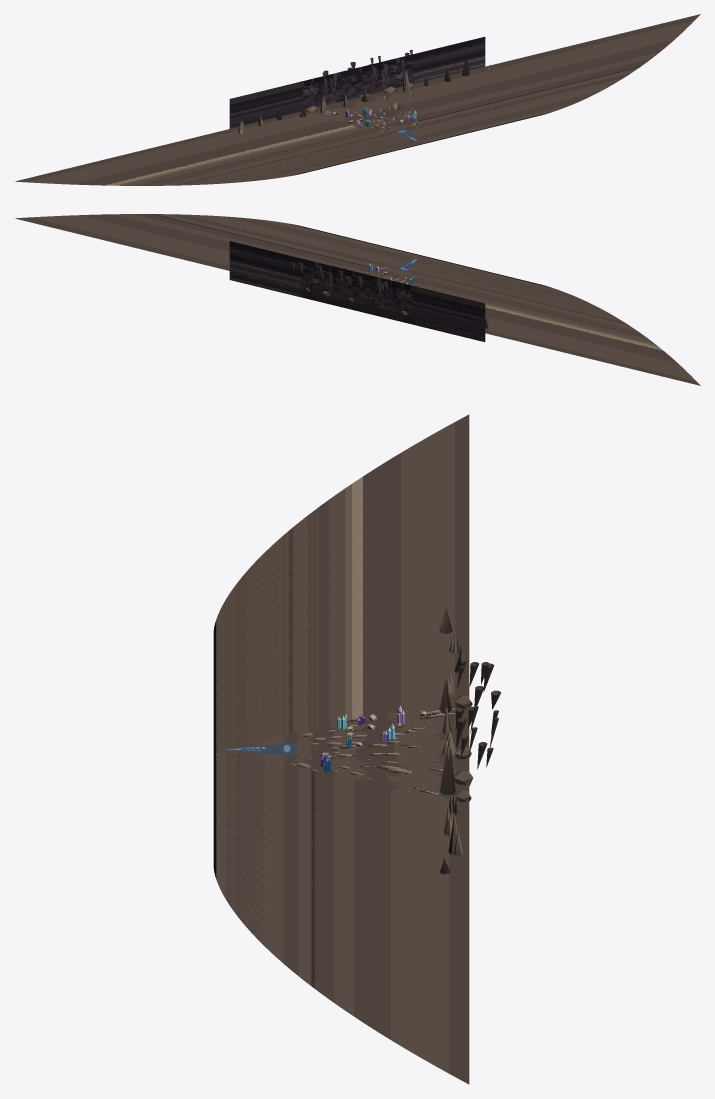
File: bg_cave.glb
3 views of the same model, one above another, from view 1: azimuth 30°, elevation 25°; view 2: azimuth 150°, elevation 25°; view 3: azimuth 270°, elevation 25° (orthographic). The views are drawn at different scales.
Visible parts, largest first — view 1: ground, cave_wall, cave_decor, stalactites; view 2: ground, cave_wall, stalactites; view 3: ground, cave_decor, stalactites.
Boxes of the visible parts, left/top/right/bottom form: ground: left=15, top=14, right=700, bottom=185; cave_wall: left=229, top=37, right=485, bottom=128; cave_decor: left=238, top=54, right=491, bottom=133; stalactites: left=322, top=50, right=412, bottom=92; ground: left=15, top=214, right=700, bottom=385; cave_wall: left=229, top=241, right=485, bottom=341; stalactites: left=291, top=262, right=388, bottom=294; ground: left=213, top=414, right=469, bottom=1084; cave_decor: left=320, top=607, right=466, bottom=874; stalactites: left=455, top=660, right=501, bottom=769.
Bounding box in the file's own units: 80 × 4.34 × 14.51.
Materials: 9 (2 with a texture image).
